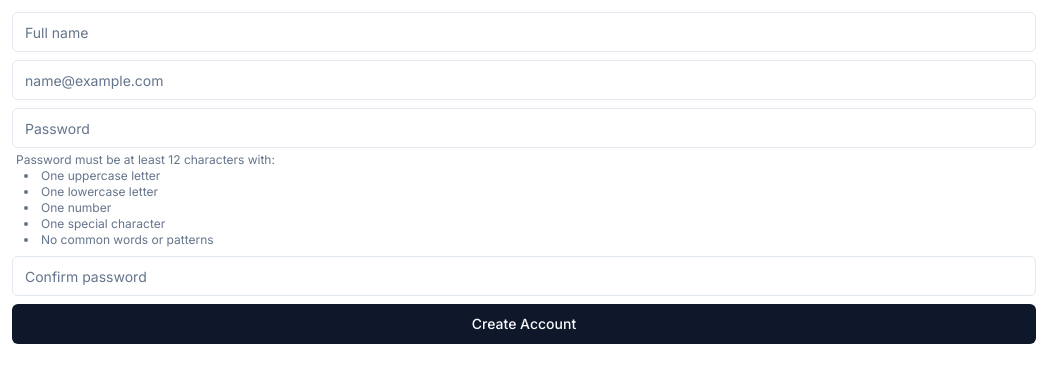
Test: UserAuthForm › Register Mode › should validate password confirmation match
Type "John Doe" into the field with placeholder "Full name" at (524, 32), box [12,12,1036,52]
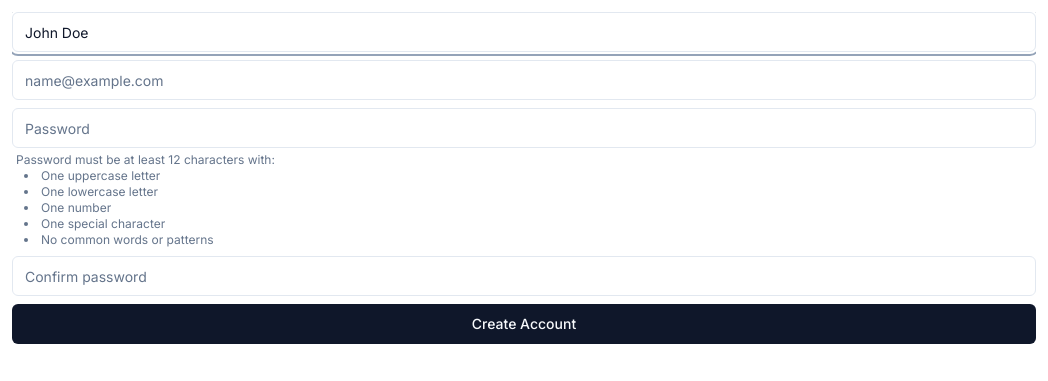
Type "test@example.com" into the field with placeholder "name@example.com" at (524, 80), box [12,60,1036,100]
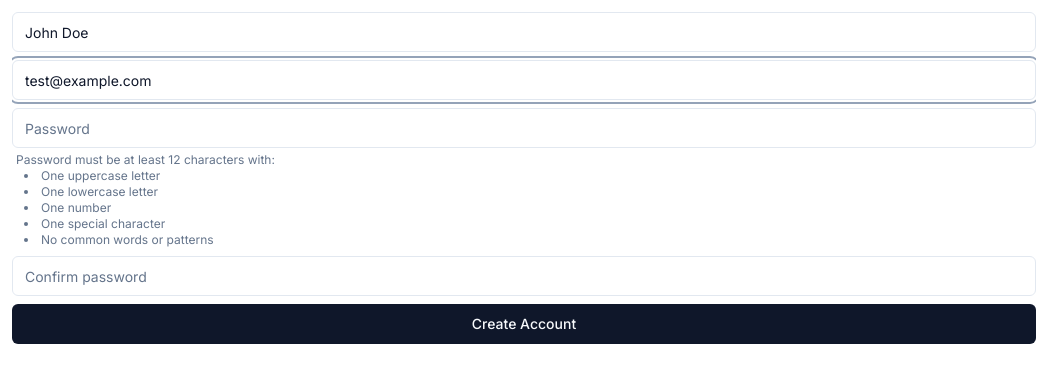
Type "MyStr0ng!P@ssw0rd" into the password field with placeholder "Password" at (524, 128), box [12,108,1036,148]
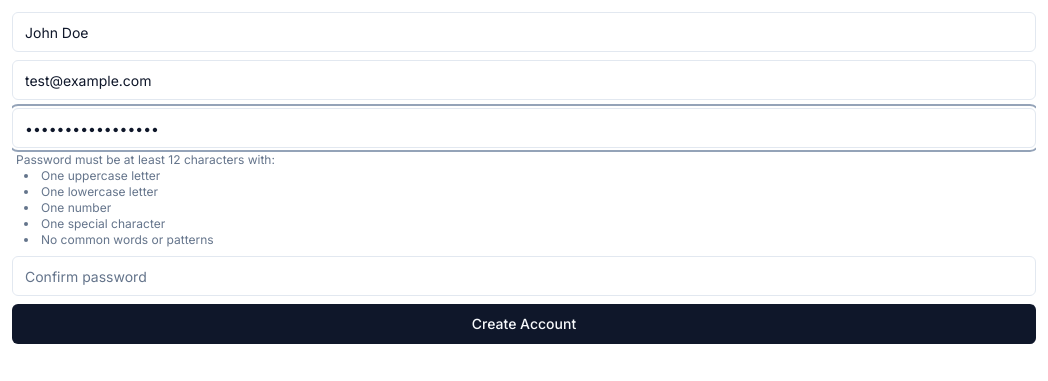
Type "DifferentP@ssw0rd" into the password field with placeholder "Confirm password" at (524, 276), box [12,256,1036,296]
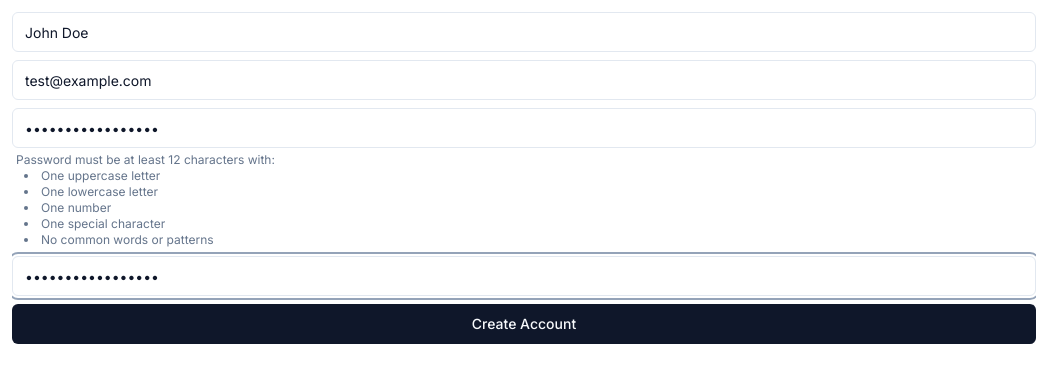
Click the button "Create Account" at (524, 324), box [12,304,1036,344]
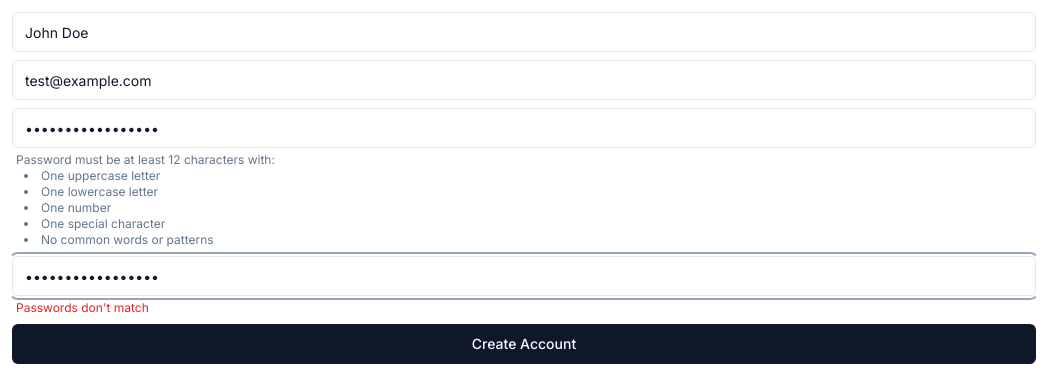
Now the text "Passwords don't match" is shown, box [16,300,149,315]
